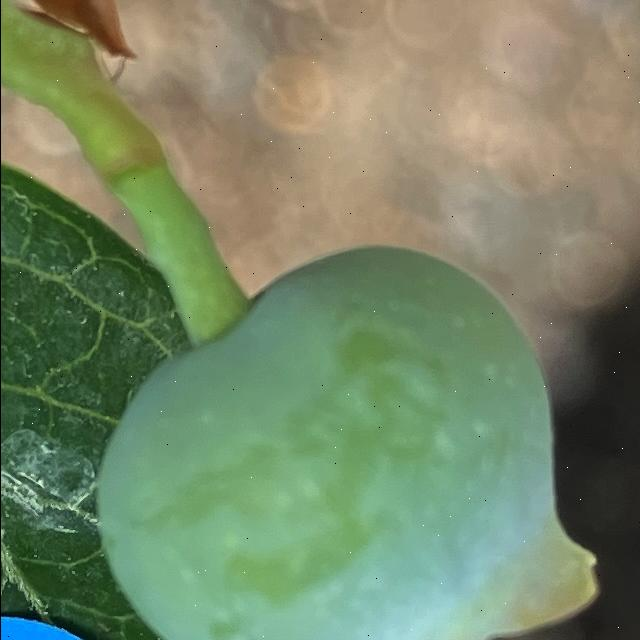Blueberries: (83, 226, 626, 640)
